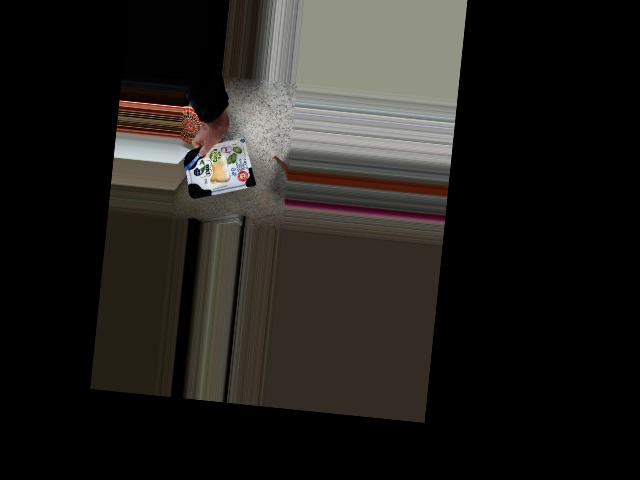cheese: (179, 134, 260, 205)
